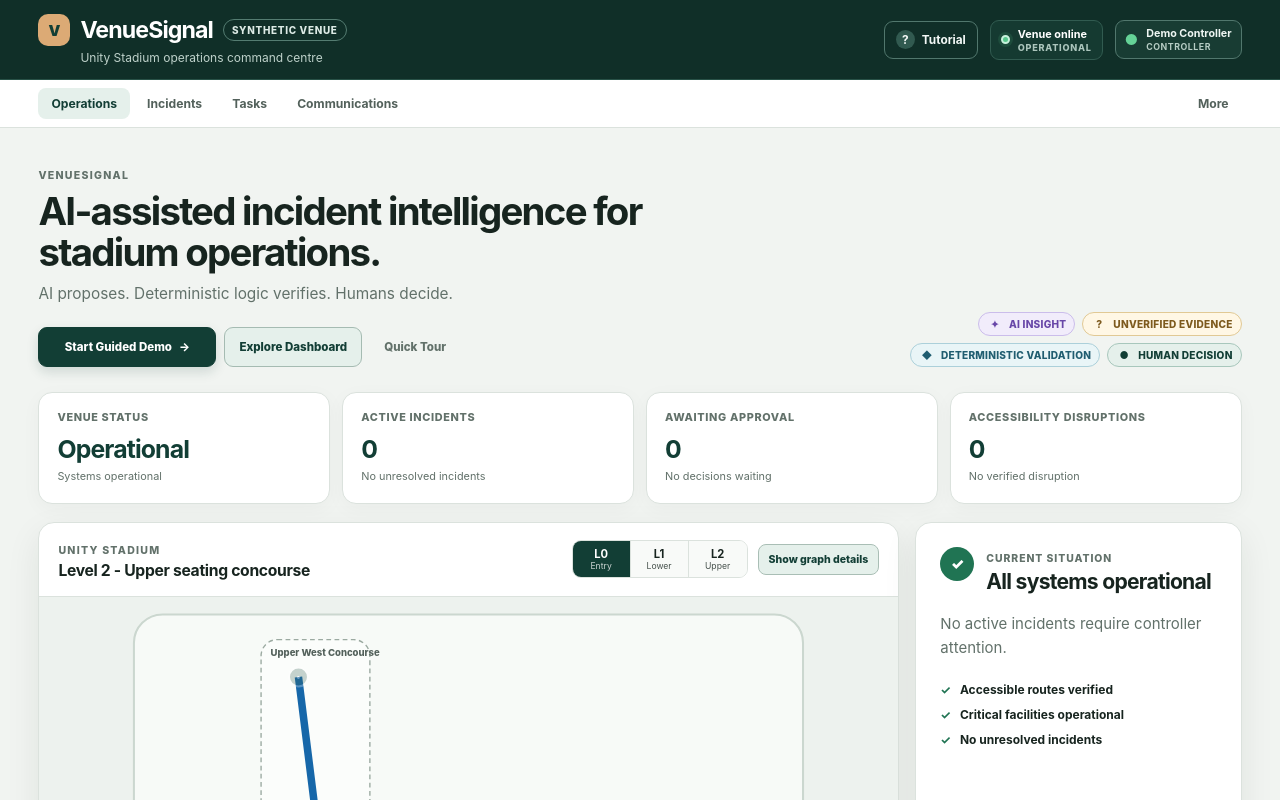
Test case: VenueSignal frontend experience › shows the verified identity and four primary operating areas
Check: the text "Demo Controller" is shown, box [1146, 27, 1232, 40]
Check: the text "CONTROLLER" is shown, box [1146, 41, 1211, 52]
Click the heading "More" at (1213, 104), box [1198, 96, 1229, 111]
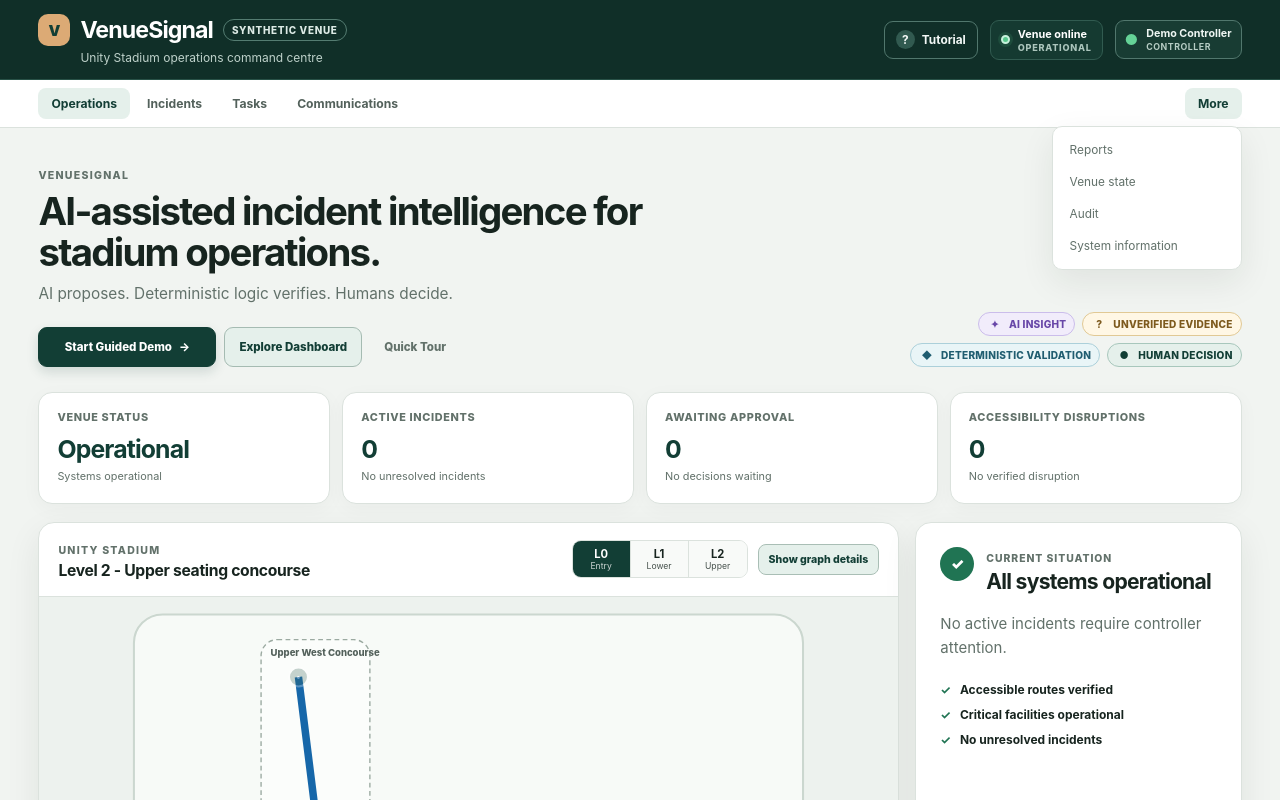
Check: the link "Reports" is shown, box [1070, 143, 1113, 157]
Check: the link "Audit" is shown, box [1070, 207, 1099, 221]
